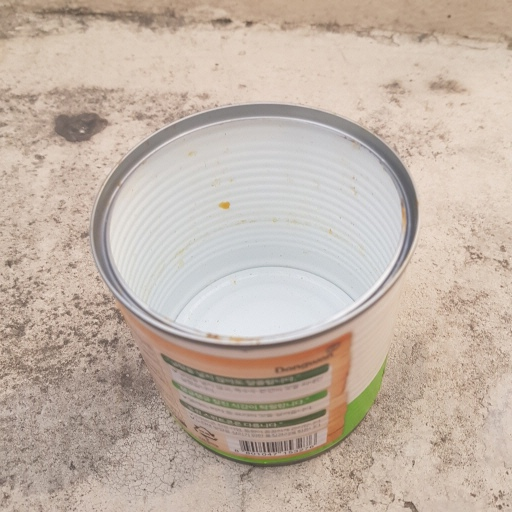Metal_1: (90, 102, 420, 468)
